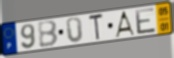0: (65, 17, 84, 45)
9: (20, 23, 37, 51)
A: (113, 10, 136, 39)
B: (36, 19, 59, 49)
E: (134, 6, 158, 36)
T: (88, 13, 105, 43)
